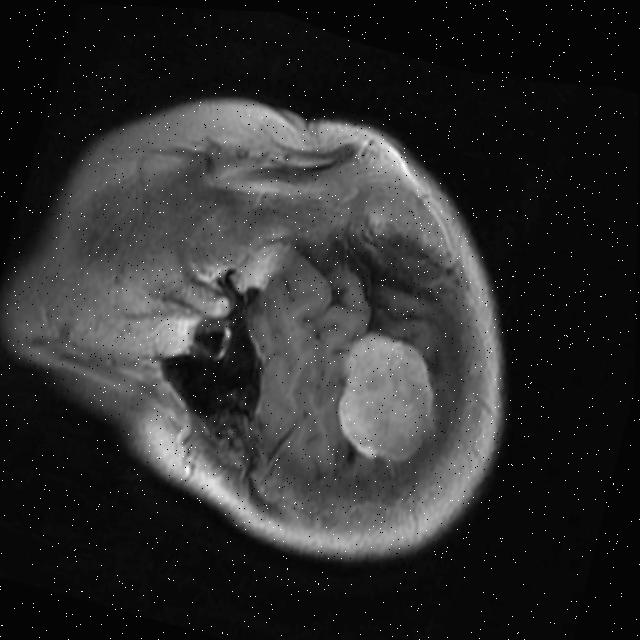Meningioma: (321, 323, 451, 475)
